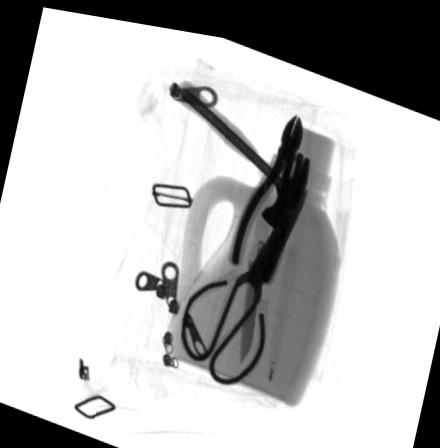Hammer: (170, 72, 309, 221)
Knife: (236, 154, 277, 357)
Pliers: (225, 102, 304, 274)
Scissors: (176, 174, 308, 377)
